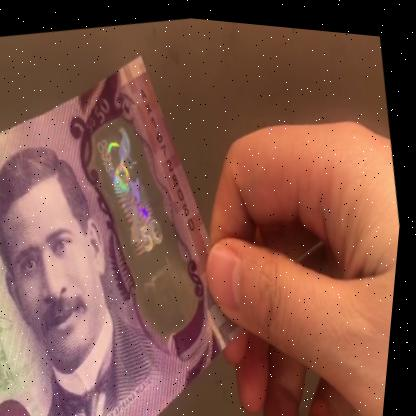50F: (80, 106, 209, 318)
